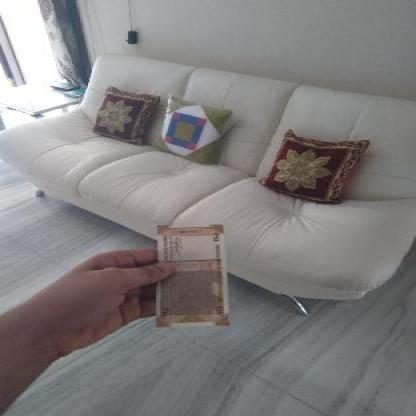New10Back: (156, 226, 225, 326)
